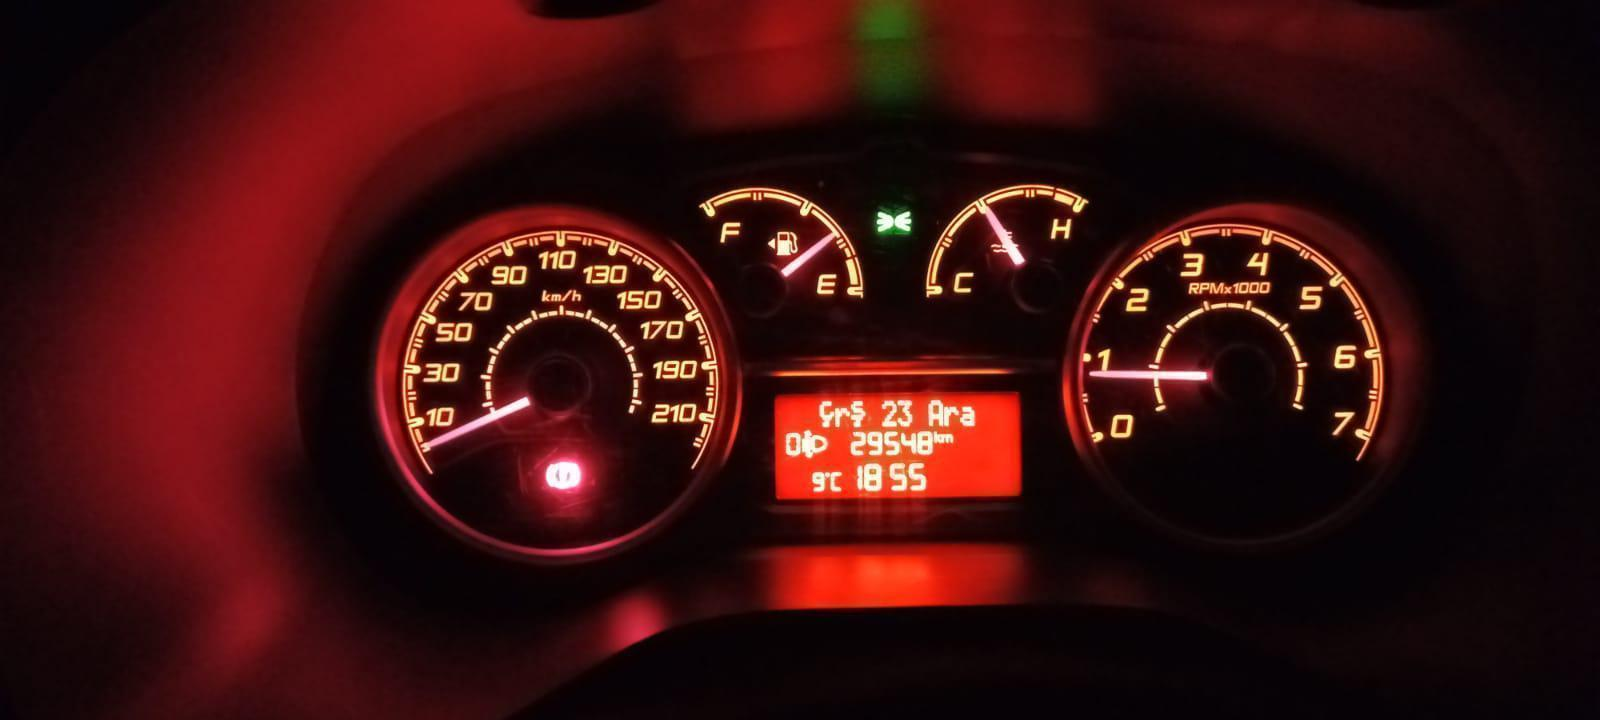0: (785, 431, 801, 458)
1: (855, 462, 864, 493)
2: (849, 430, 866, 456), (881, 400, 896, 428)
3: (897, 397, 914, 425)
4: (900, 430, 916, 455)
5: (888, 461, 907, 492), (907, 461, 926, 491), (884, 430, 900, 456)
8: (864, 462, 881, 492), (917, 430, 933, 455)
9: (867, 430, 882, 455), (811, 471, 824, 492)
X: (924, 399, 942, 427), (850, 399, 866, 428), (819, 401, 834, 428), (960, 405, 976, 428), (942, 405, 958, 426), (834, 405, 849, 427), (830, 469, 844, 492), (942, 431, 955, 445), (934, 430, 941, 444)
odometer: (767, 385, 1028, 499)
